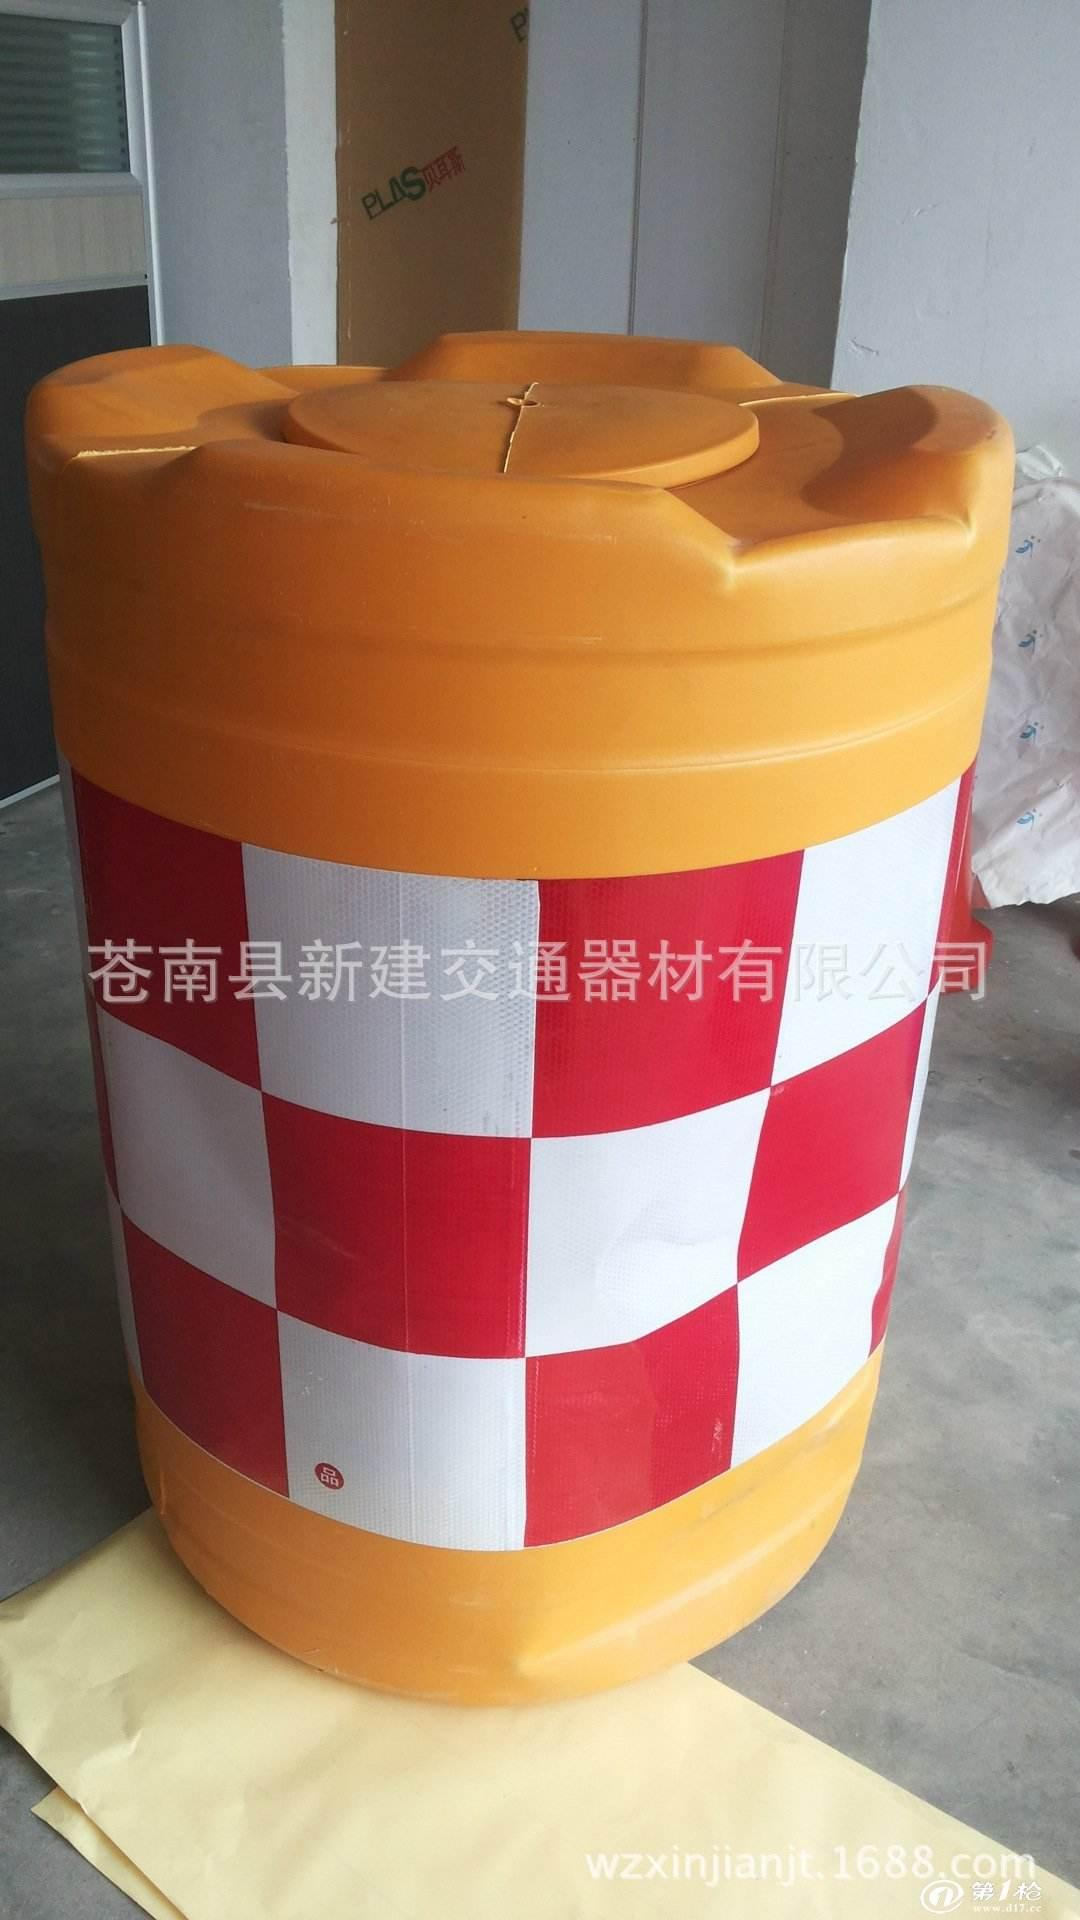sign: (15, 286, 984, 1683)
